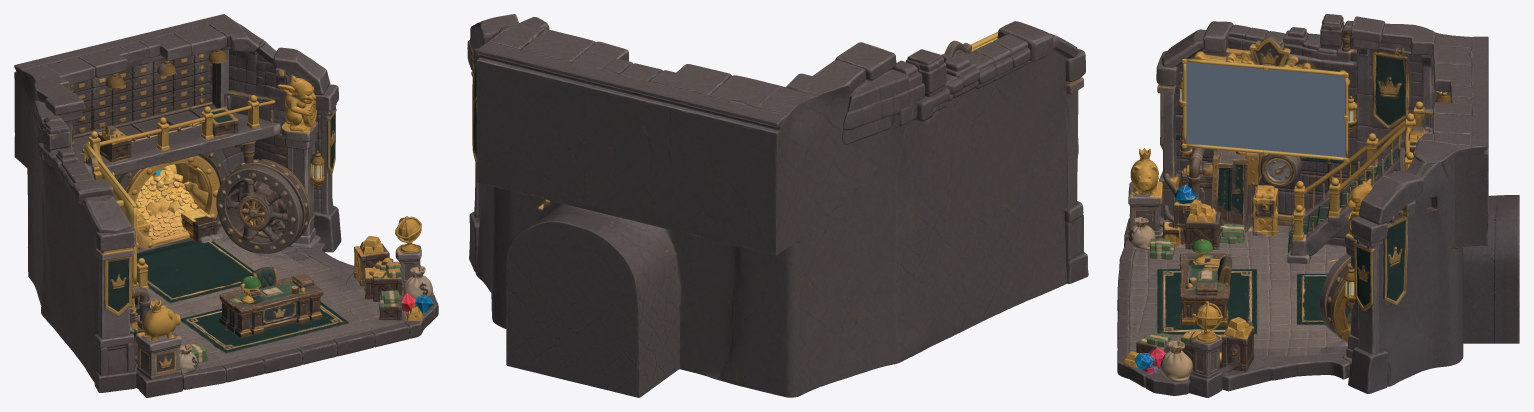
File: GoblinBank_A_screen.v2.delitL1.glb
3 renders of one model, left to right at view 1: azimuth 30°, elevation 25°; view 2: azimuth 150°, elevation 25°; view 3: azimuth 270°, elevation 25°, orthographic. The views are drawn at different scales.
Visible parts, largest first — view 1: goblin_bank, kfb_screen_frame; view 2: goblin_bank; view 3: goblin_bank, kfb_screen_slot, kfb_screen_frame.
Boxes of the visible parts, box(x1,y1,x2,y2) form: goblin_bank: box(14, 14, 438, 397); kfb_screen_frame: box(84, 141, 138, 287); goblin_bank: box(467, 14, 1088, 397); goblin_bank: box(1117, 14, 1519, 397); kfb_screen_slot: box(1186, 62, 1345, 157); kfb_screen_frame: box(1182, 58, 1348, 162).
Bounding box in the file's own units: 1.9 × 1.12 × 1.79.
Materials: 3 (1 with a texture image).
